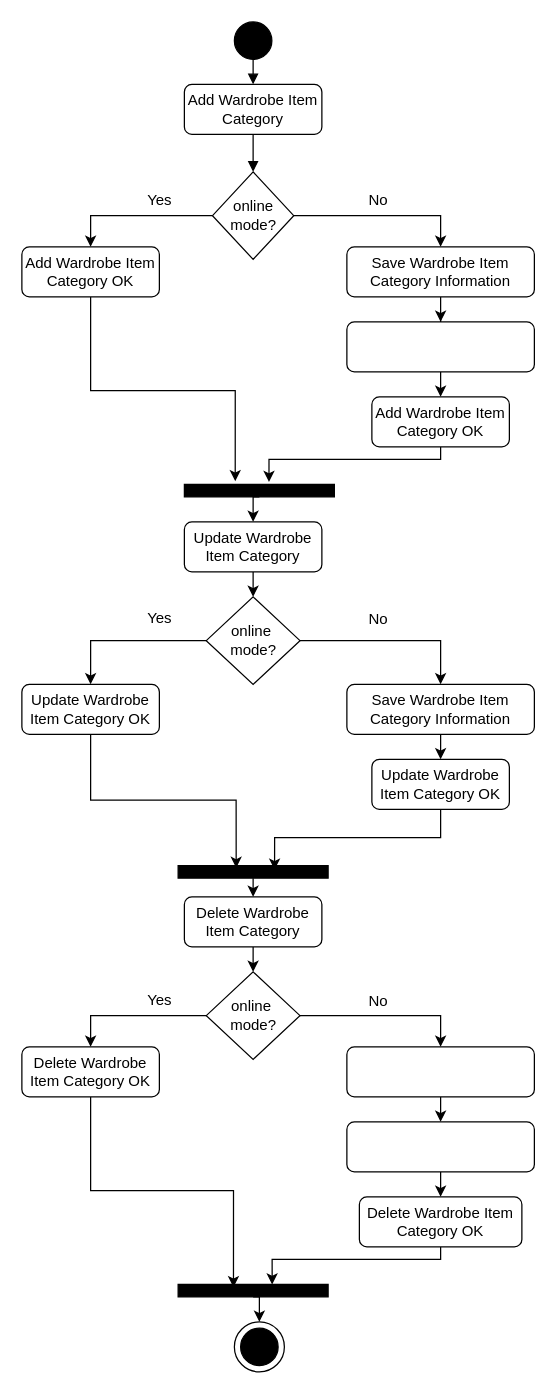
Some shapes in this 556 by 1394 pixel diagram are drawn without their labels. The shapes that lost their labels are listed below. From the top down, each one's centre as x and y in pixels, then its label:
pixel 440 346: Save Wardrobe Item Category Image
pixel 440 1071: Delete Information
pixel 440 1146: Delete Image
